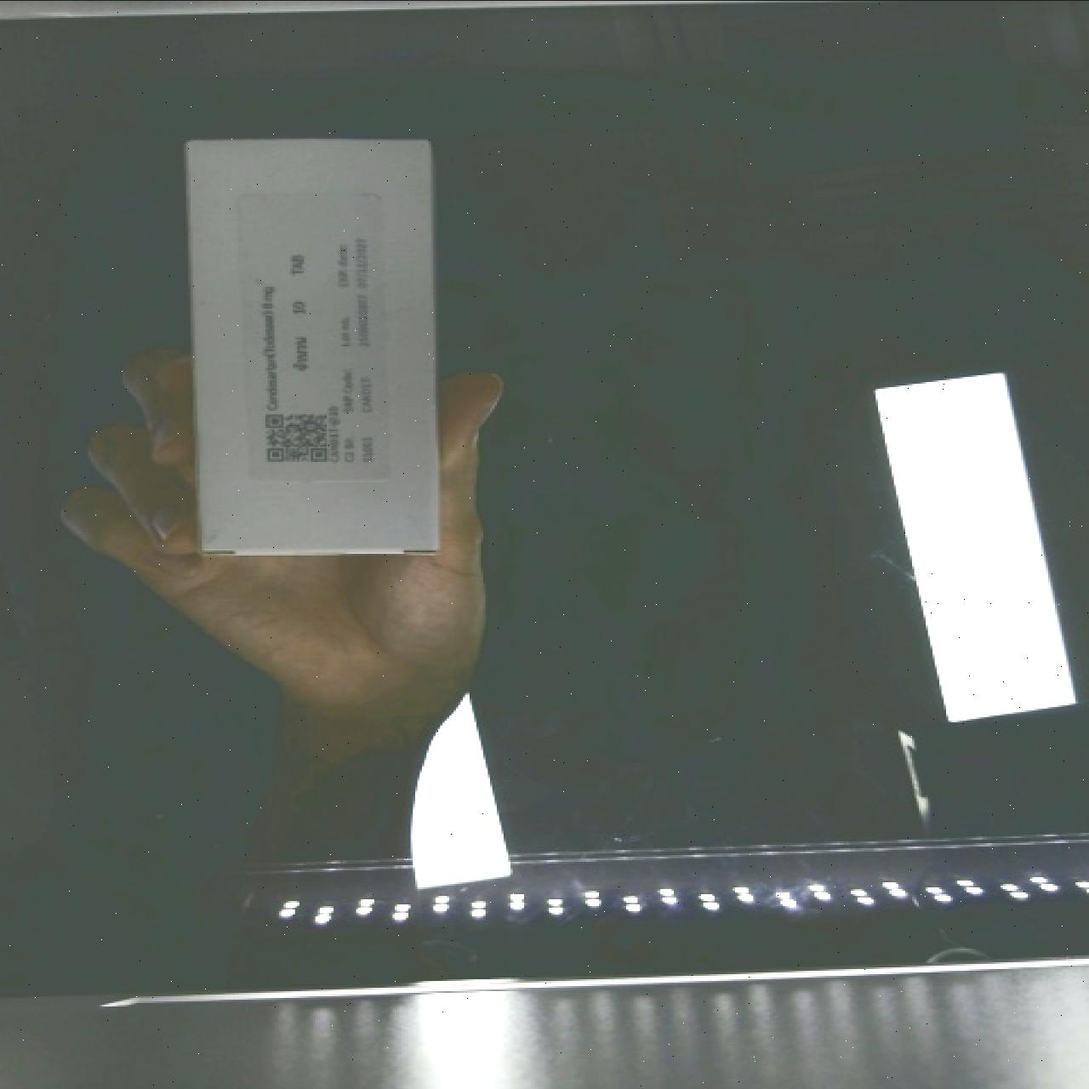qr_code: (238, 396, 348, 478)
